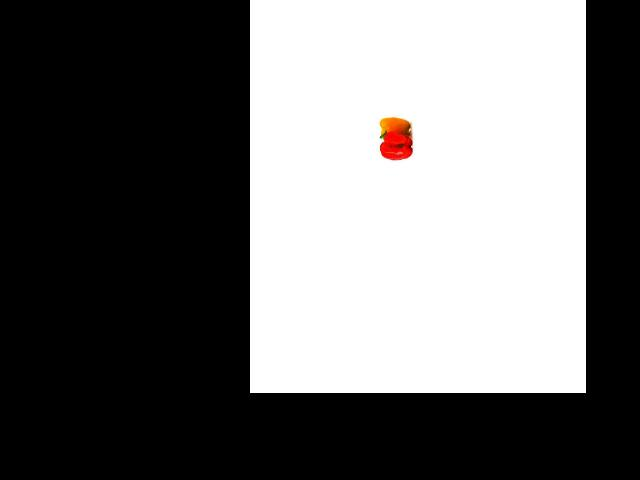bell_pepper: (381, 116, 412, 142)
